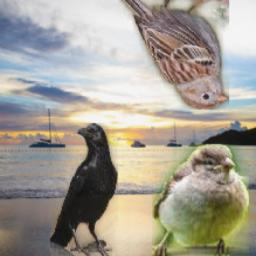Crow: (50, 123, 118, 256)
Sparrow: (117, 0, 228, 111), (151, 144, 248, 256)
